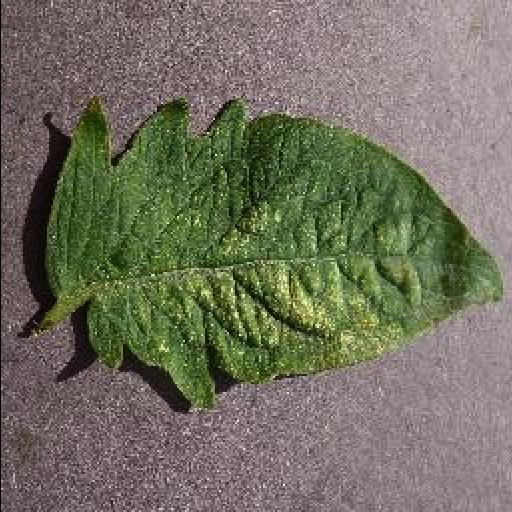disease_tomato: (37, 94, 507, 412)
